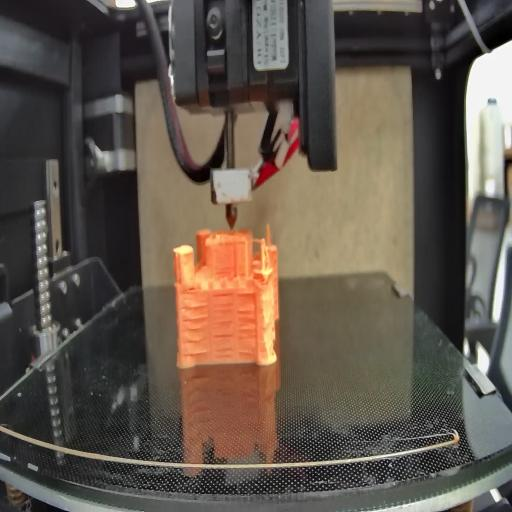cracks: (180, 305, 208, 357), (236, 308, 259, 354), (212, 293, 234, 324), (215, 330, 234, 358), (235, 291, 257, 297), (187, 283, 197, 293)
